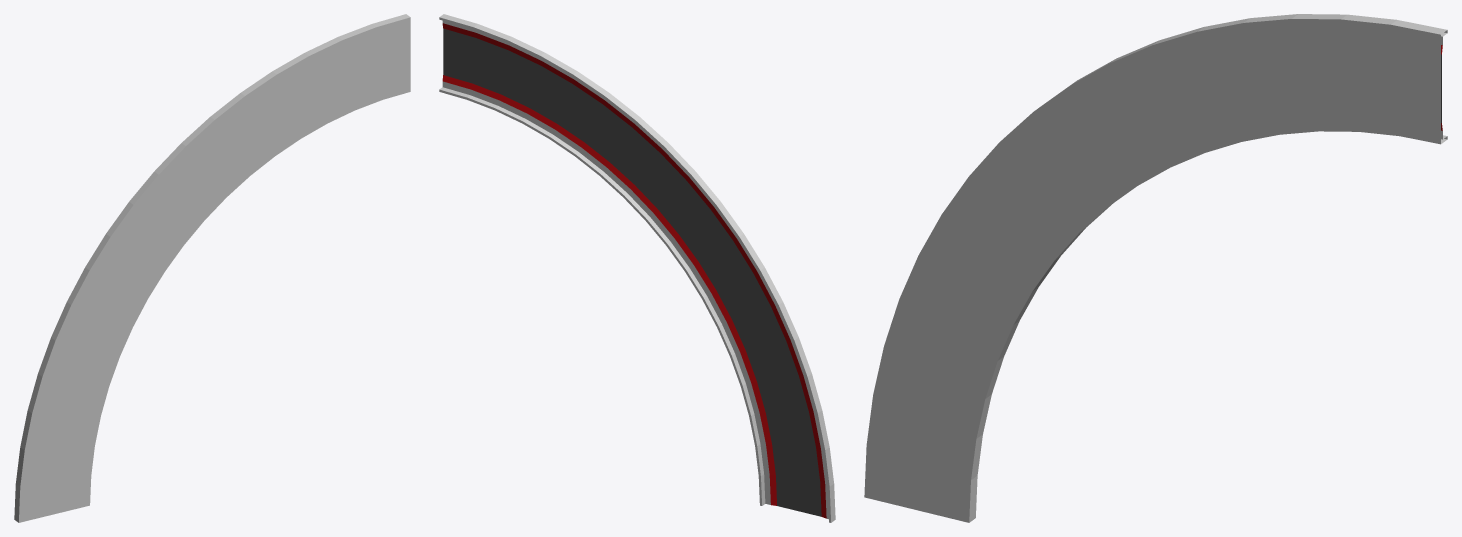
The model's file is Bend_Flat.fbx.
3 views of the same model, side by side, from view 1: azimuth 30°, elevation 25°; view 2: azimuth 150°, elevation 25°; view 3: azimuth 330°, elevation 25° (orthographic). The views are drawn at different scales.
Parts seen in each view (by area): view 1: Bend_Flat; view 2: Bend_Flat; view 3: Bend_Flat.
Boxes of the visible parts, box(x1,y1,x2,y2) form: Bend_Flat: box(14, 14, 410, 522); Bend_Flat: box(439, 14, 835, 522); Bend_Flat: box(864, 14, 1447, 522).
Size of the model in its own units: 7040 by 7040 by 140.
